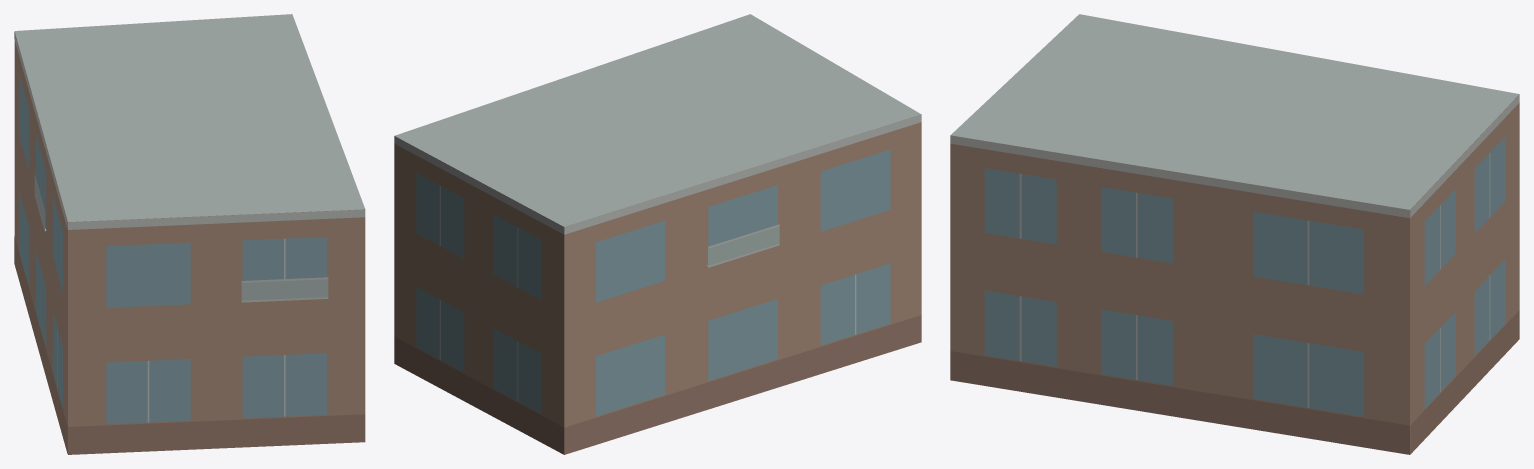
The model's file is survey-upis-32982543.glb.
3 views of the same model, side by side, from view 1: azimuth 30°, elevation 25°; view 2: azimuth 150°, elevation 25°; view 3: azimuth 270°, elevation 25° (orthographic). The views are drawn at different scales.
Visible parts, largest first — view 1: survey-upis-32982543.tmp; view 2: survey-upis-32982543.tmp; view 3: survey-upis-32982543.tmp.
Part boxes in pixels (x1=…): survey-upis-32982543.tmp: x1=14, y1=14, x2=365, y2=454; survey-upis-32982543.tmp: x1=394, y1=14, x2=921, y2=454; survey-upis-32982543.tmp: x1=950, y1=14, x2=1519, y2=454.
Bounding box in the file's own units: 12.36 × 7.2 × 15.18.
